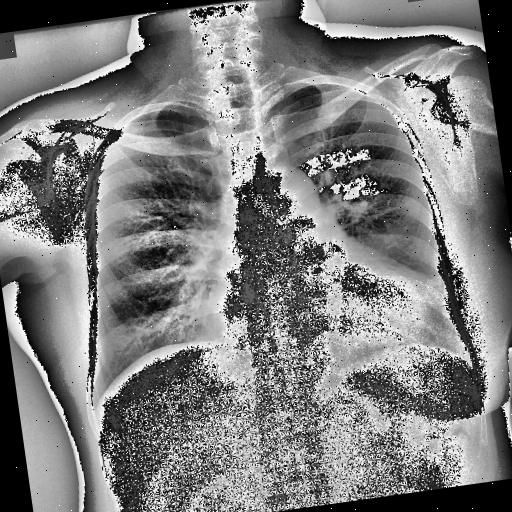0- Aortic enlargement: (249, 161, 325, 225)
3- Cardiomegaly: (198, 256, 454, 380), (202, 246, 448, 371), (204, 250, 444, 374)
